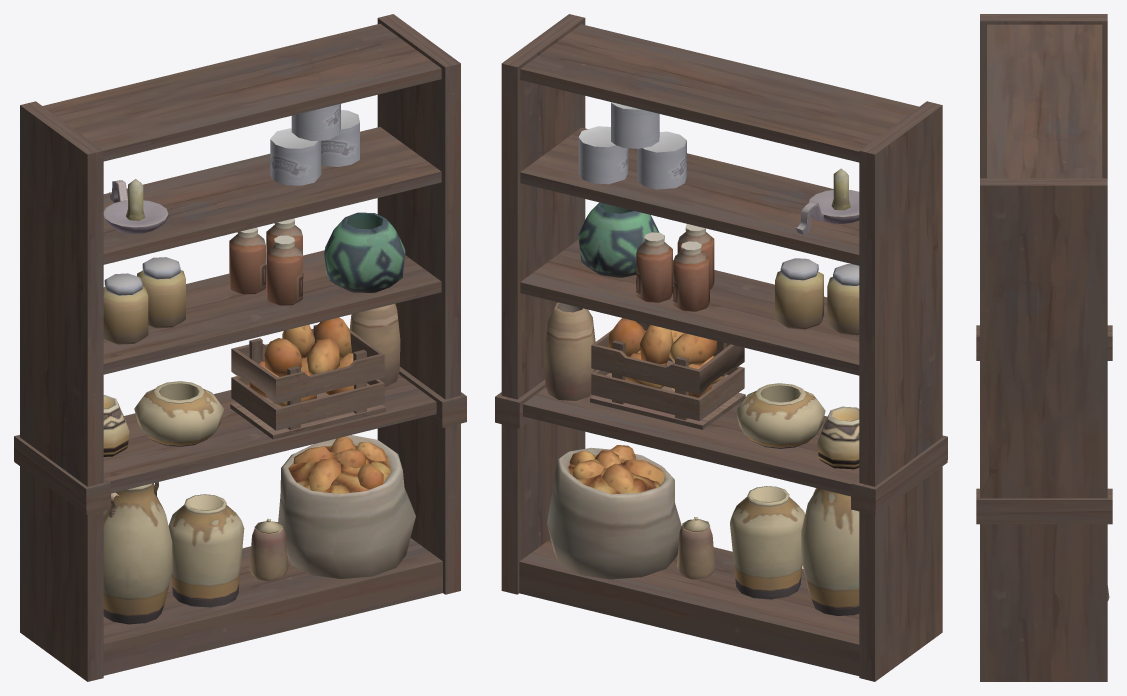
File: Homeworld_Interior_Md_Cabinet_Cupboard_03_Vo.fbx
3 renders of one model, left to right at view 1: azimuth 30°, elevation 25°; view 2: azimuth 150°, elevation 25°; view 3: azimuth 270°, elevation 25°, orthographic. The views are drawn at different scales.
Parts seen in each view (by area): view 1: Area_MdProps_Goods21_Lod0; view 2: Area_MdProps_Goods21_Lod0; view 3: Area_MdProps_Goods21_Lod0.
Boxes of the visible parts, x1,y1,x2,y2 form: Area_MdProps_Goods21_Lod0: (14,14,466,681); Area_MdProps_Goods21_Lod0: (495,14,947,681); Area_MdProps_Goods21_Lod0: (976,14,1112,681).
Size of the model in its own units: 2.06 by 2.72 by 0.6773.
